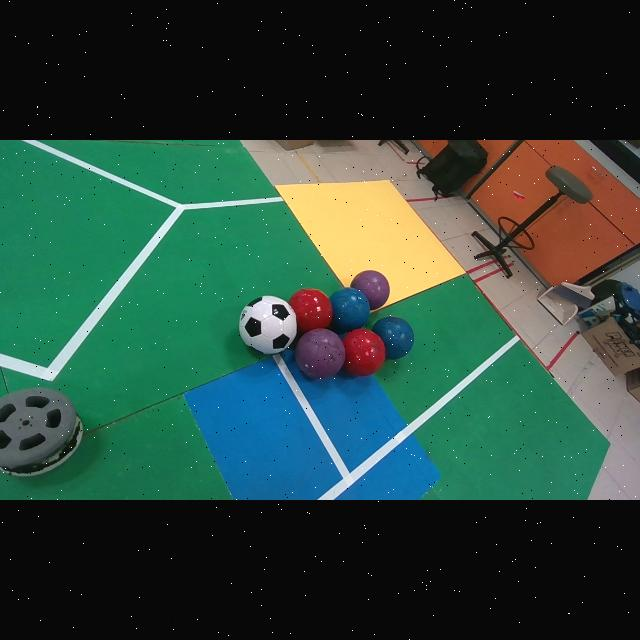B: (371, 317, 414, 360), (330, 288, 370, 332)
P: (294, 328, 345, 379), (351, 270, 390, 310)
R: (343, 328, 386, 376), (288, 288, 332, 334)
